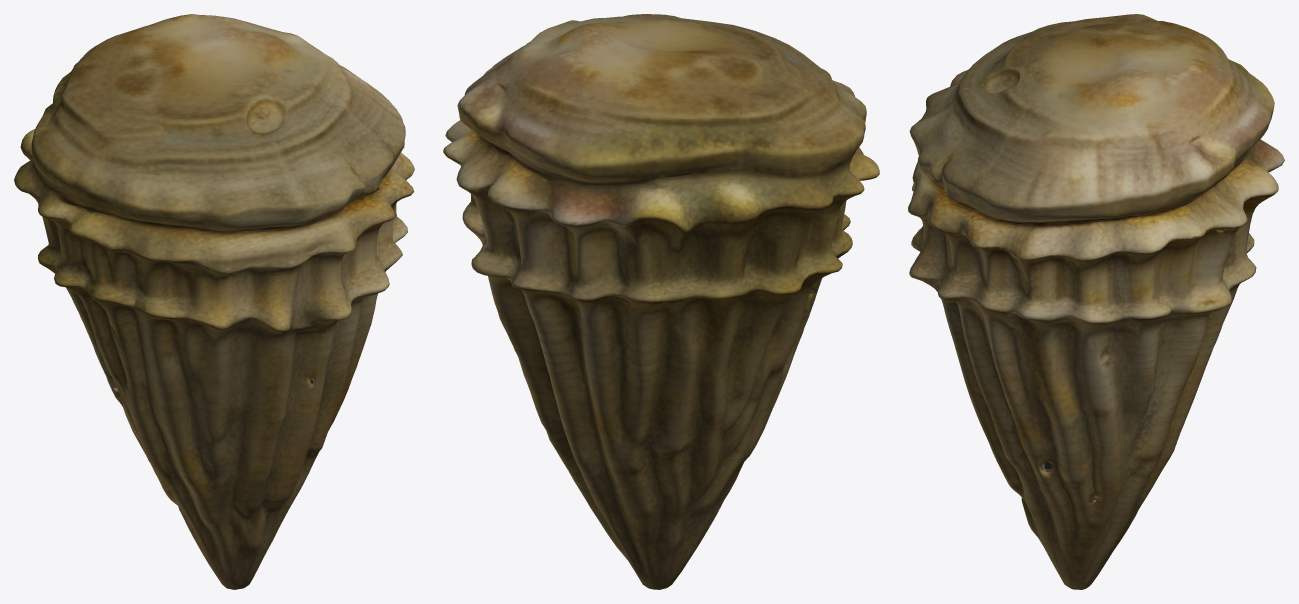
3 renders of one model, left to right at view 1: azimuth 30°, elevation 25°; view 2: azimuth 150°, elevation 25°; view 3: azimuth 270°, elevation 25°, orthographic. The views are drawn at different scales.
Visible parts, largest first — view 1: world; view 2: world; view 3: world.
Boxes of the visible parts, x1,y1,x2,y2 form: world: [14, 14, 414, 589]; world: [443, 14, 879, 589]; world: [908, 14, 1284, 589].
Size of the model in its own units: 0.0644 by 0.09 by 0.0584.
Materials: 1 (1 with a texture image).
